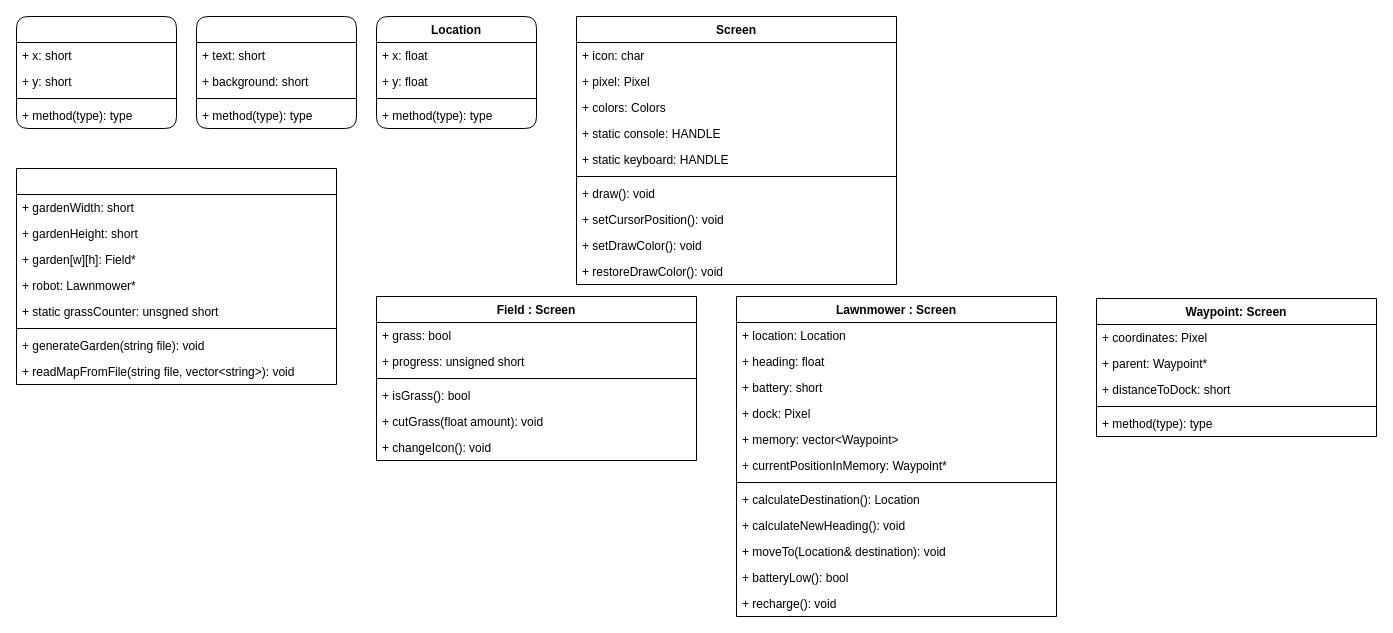
Image size: 1393x633. Some labels were removed from this diagram. The box of each missing label's shape, as (x1, y1, x2, y2) in pixels:
Colors: (196, 16, 356, 128)
Pixel: (16, 16, 176, 128)
Simulation: (16, 168, 336, 384)
